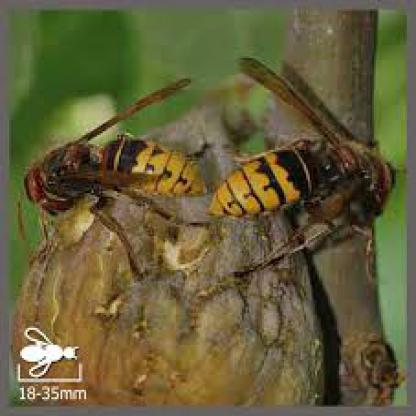european: (31, 75, 216, 283), (227, 66, 396, 288)
